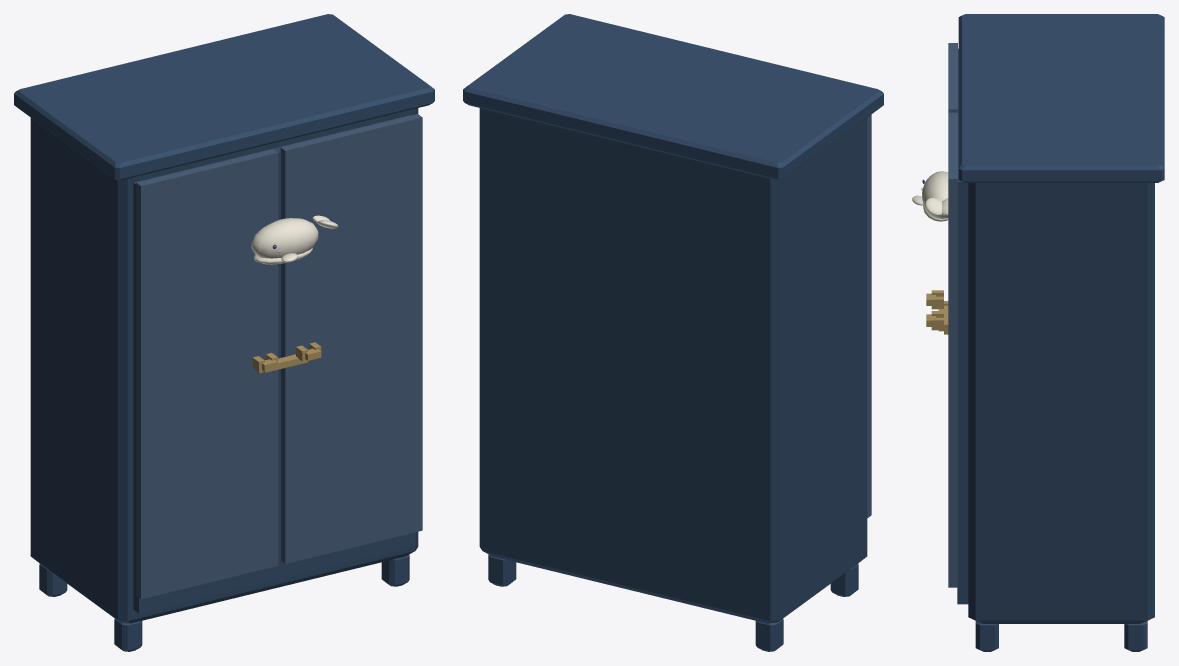
The model's file is v18_interior_navy_wardrobe.glb.
The picture shows the model from 3 angles, left to right: view 1: azimuth 30°, elevation 25°; view 2: azimuth 150°, elevation 25°; view 3: azimuth 270°, elevation 25°; orthographic projection.
Visible parts, largest first — view 1: _MeshInstance3D_4727, _MeshInstance3D_4731, _MeshInstance3D_4721, _MeshInstance3D_4722, _MeshInstance3D_4723, _MeshInstance3D_4735, _MeshInstance3D_4718, _MeshInstance3D_4720, _MeshInstance3D_4717; view 2: _MeshInstance3D_4721, _MeshInstance3D_4722, _MeshInstance3D_4727, _MeshInstance3D_4717, _MeshInstance3D_4719, _MeshInstance3D_4718; view 3: _MeshInstance3D_4721, _MeshInstance3D_4722, _MeshInstance3D_4723, _MeshInstance3D_4731, _MeshInstance3D_4735, _MeshInstance3D_4727, _MeshInstance3D_4719, _MeshInstance3D_4720.
Boxes of the visible parts, left/top/right/bottom form: _MeshInstance3D_4727: left=136, top=149, right=278, bottom=599; _MeshInstance3D_4731: left=280, top=114, right=422, bottom=563; _MeshInstance3D_4721: left=30, top=108, right=418, bottom=623; _MeshInstance3D_4722: left=14, top=14, right=434, bottom=180; _MeshInstance3D_4723: left=133, top=115, right=415, bottom=613; _MeshInstance3D_4735: left=251, top=218, right=318, bottom=258; _MeshInstance3D_4718: left=114, top=619, right=142, bottom=651; _MeshInstance3D_4720: left=381, top=554, right=409, bottom=586; _MeshInstance3D_4717: left=39, top=564, right=67, bottom=596; _MeshInstance3D_4721: left=479, top=108, right=867, bottom=623; _MeshInstance3D_4722: left=463, top=14, right=883, bottom=180; _MeshInstance3D_4727: left=867, top=114, right=871, bottom=517; _MeshInstance3D_4717: left=755, top=619, right=783, bottom=651; _MeshInstance3D_4719: left=488, top=554, right=516, bottom=586; _MeshInstance3D_4718: left=830, top=564, right=858, bottom=596; _MeshInstance3D_4721: left=968, top=183, right=1154, bottom=623; _MeshInstance3D_4722: left=958, top=14, right=1164, bottom=182; _MeshInstance3D_4723: left=957, top=48, right=968, bottom=604; _MeshInstance3D_4731: left=948, top=112, right=957, bottom=587; _MeshInstance3D_4735: left=922, top=171, right=948, bottom=219; _MeshInstance3D_4727: left=948, top=43, right=957, bottom=112; _MeshInstance3D_4719: left=1124, top=621, right=1147, bottom=651; _MeshInstance3D_4720: left=975, top=621, right=998, bottom=651.
Size of the model in its own units: 1.34 by 2 by 0.9255.
